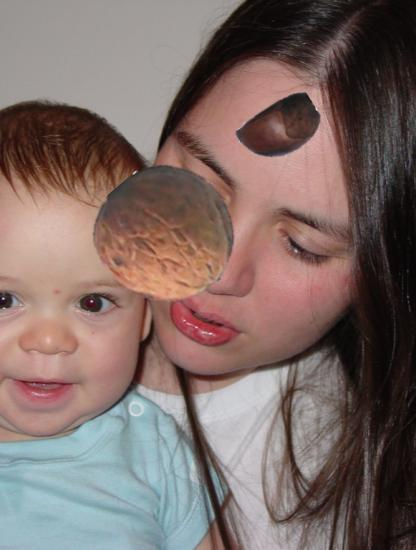Chestnut: (239, 88, 322, 171)
Walnut: (97, 167, 236, 306)
